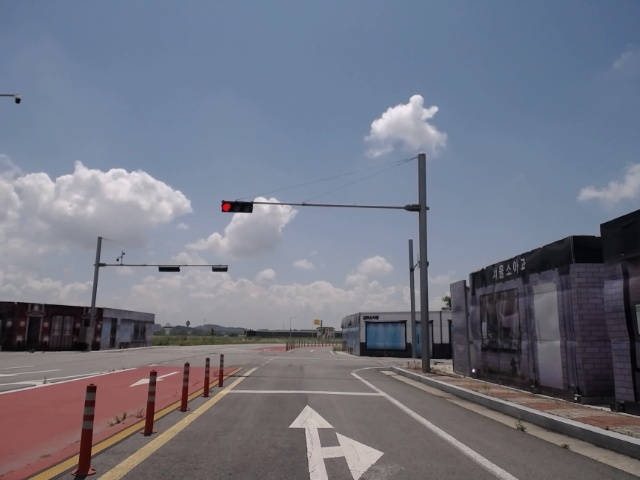red_3: (219, 200, 255, 214)
